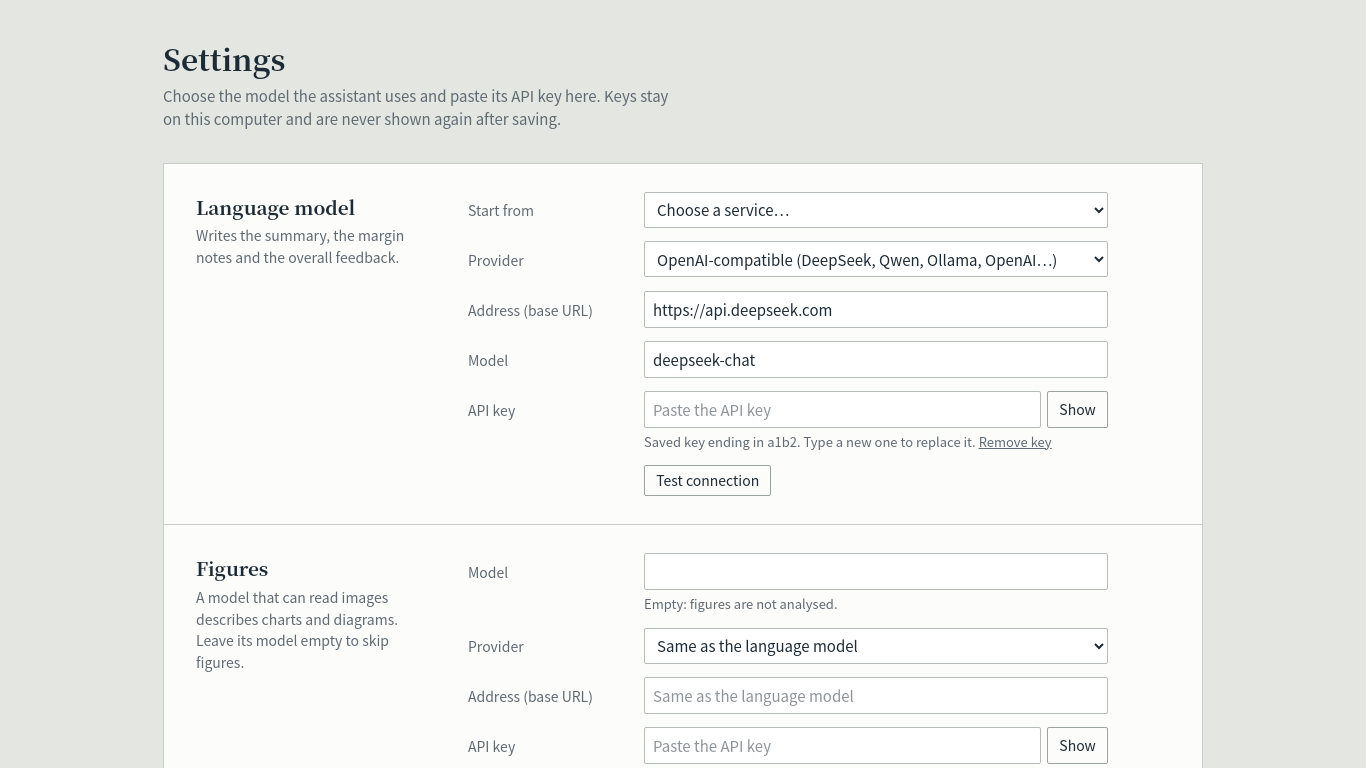
test connection saves first, then reports success
Expected: the field showing "deepseek-chat" below "Start from" is shown, [644,341,1108,378]
Click the button "Test connection".
click(708, 481)  # box [644,465,771,496]
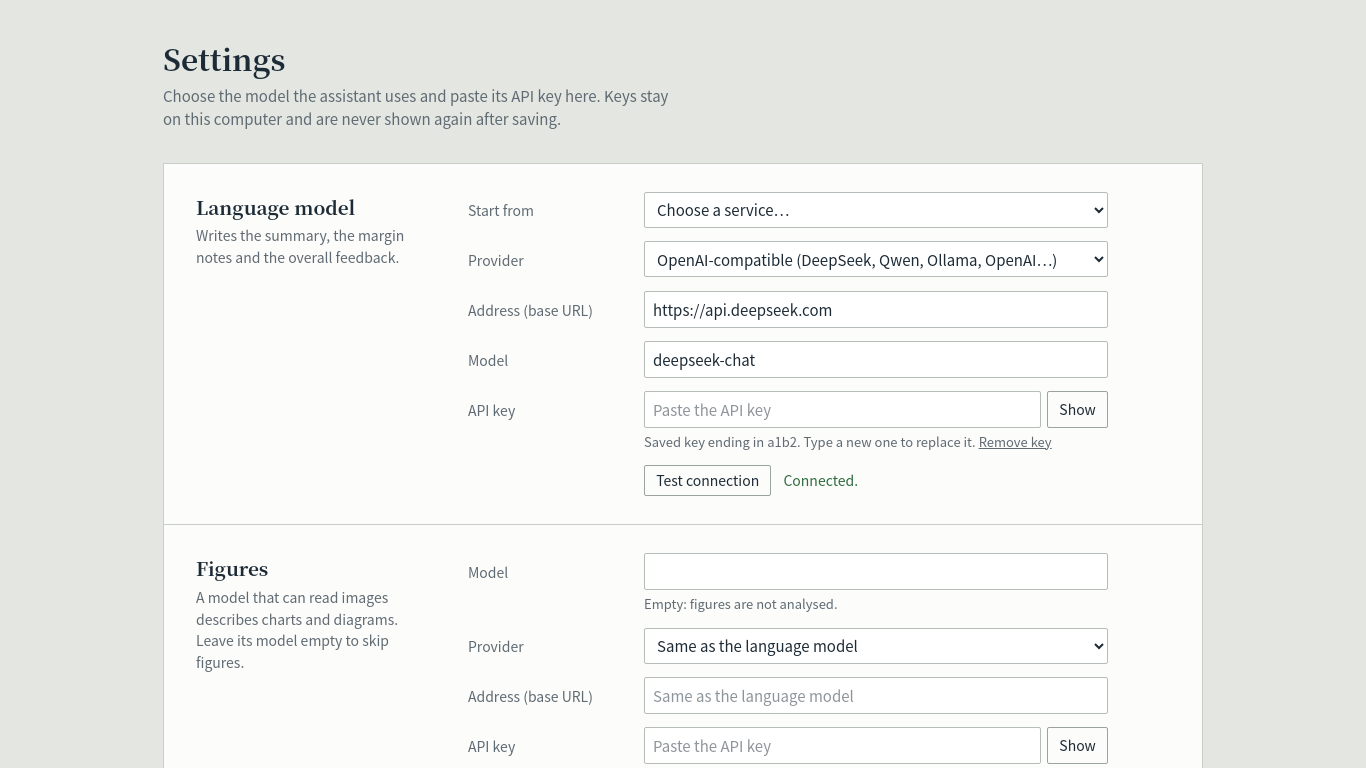
Expected: the text "Connected." is shown, [783,470,858,492]
